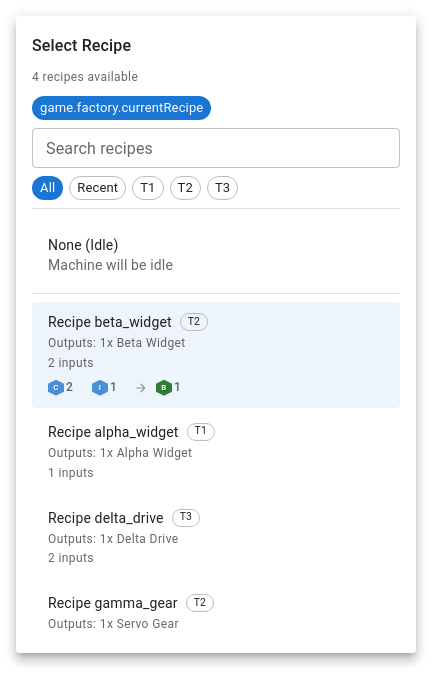
it: RecipeDropdown › shows and applies recent recipes filter in recency order
The image size is (439, 683).
Step 1. Click the button "Recent" → [98, 188], box [69,176,126,200]
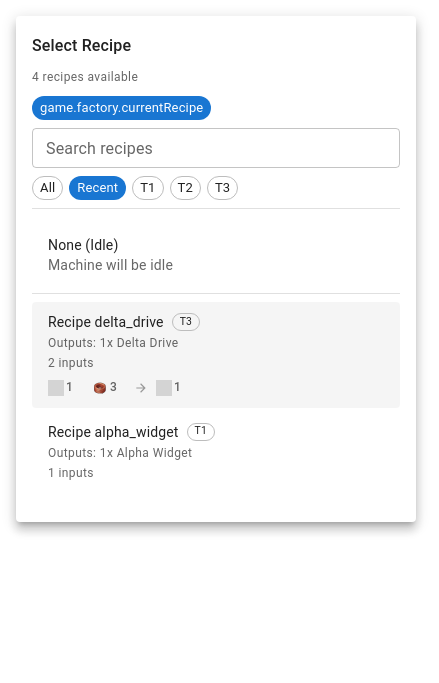
Now the button with test id "recipe-option-beta_widget" is gone
Now the button with test id "recipe-option-gamma_gear" is gone
